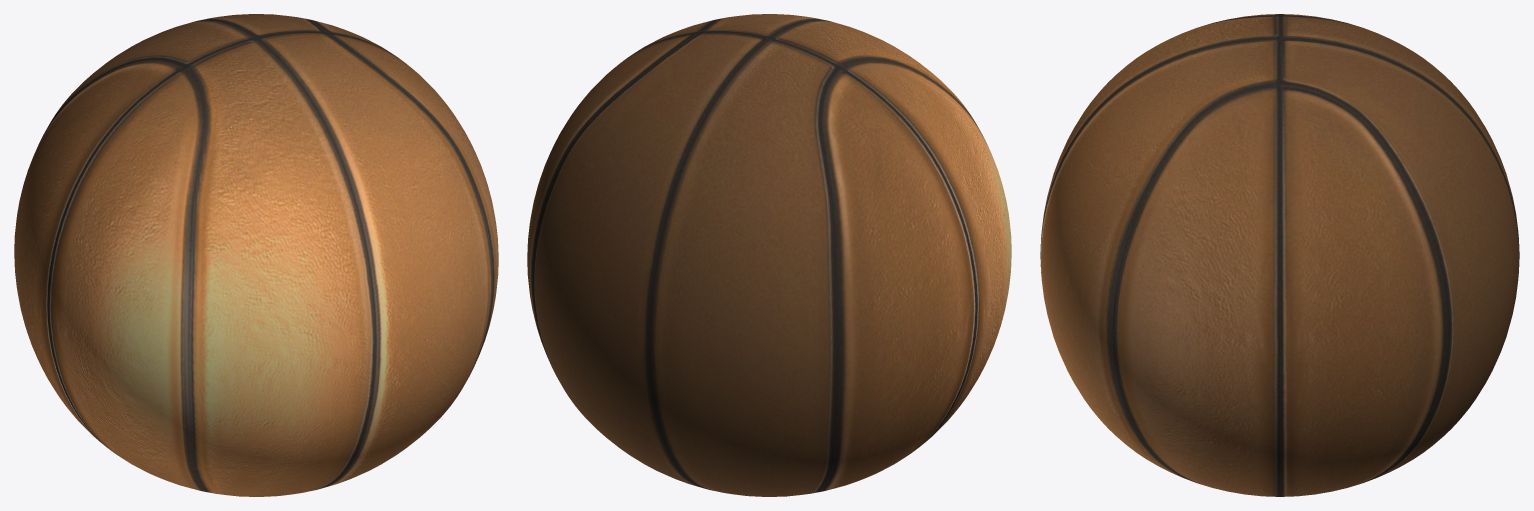
Rendered from bola-basket.gltf.
The picture shows the model from 3 angles, left to right: view 1: azimuth 30°, elevation 25°; view 2: azimuth 150°, elevation 25°; view 3: azimuth 270°, elevation 25°; orthographic projection.
Visible parts, largest first — view 1: 10487_basketball_v1_3dmax2011_it2; view 2: 10487_basketball_v1_3dmax2011_it2; view 3: 10487_basketball_v1_3dmax2011_it2.
Boxes of the visible parts, left/top/right/bottom form: 10487_basketball_v1_3dmax2011_it2: left=14, top=14, right=498, bottom=496; 10487_basketball_v1_3dmax2011_it2: left=527, top=14, right=1011, bottom=496; 10487_basketball_v1_3dmax2011_it2: left=1040, top=14, right=1519, bottom=496.
Bounding box in the file's own units: 1.12 × 1.12 × 1.12.
1 material, 1 textured.
